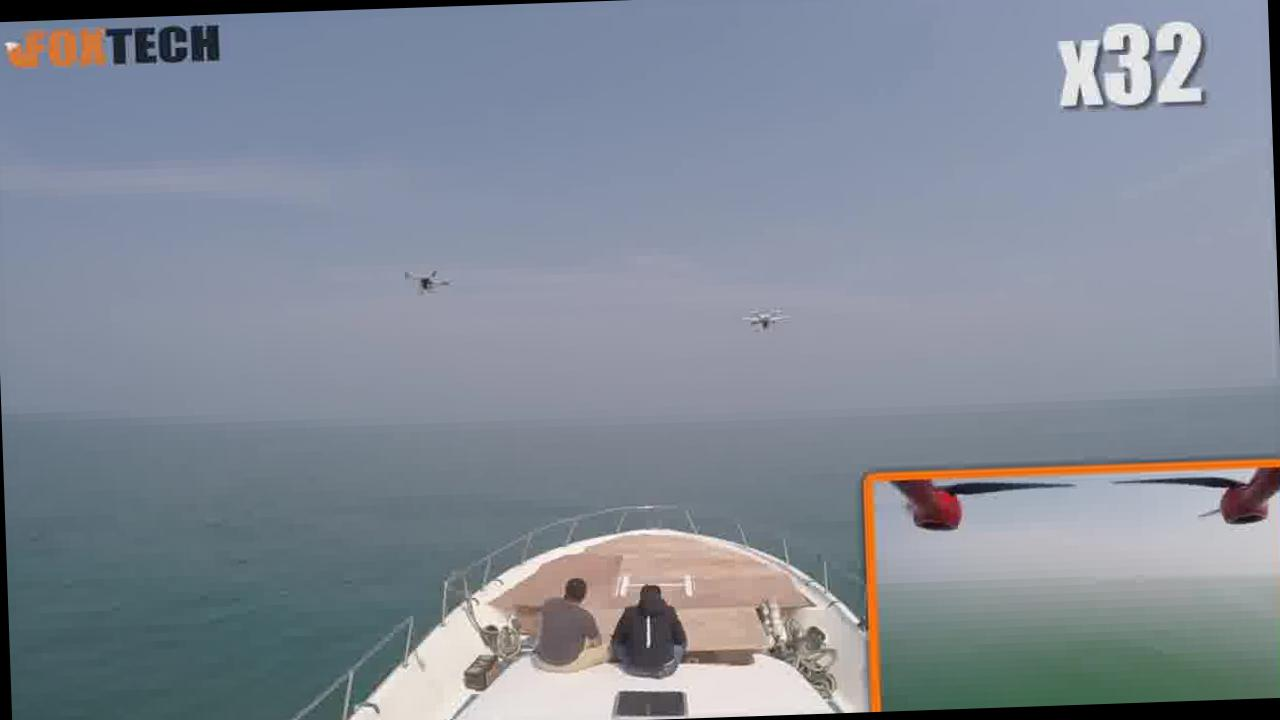drone: (734, 292, 800, 342), (398, 262, 462, 304)
